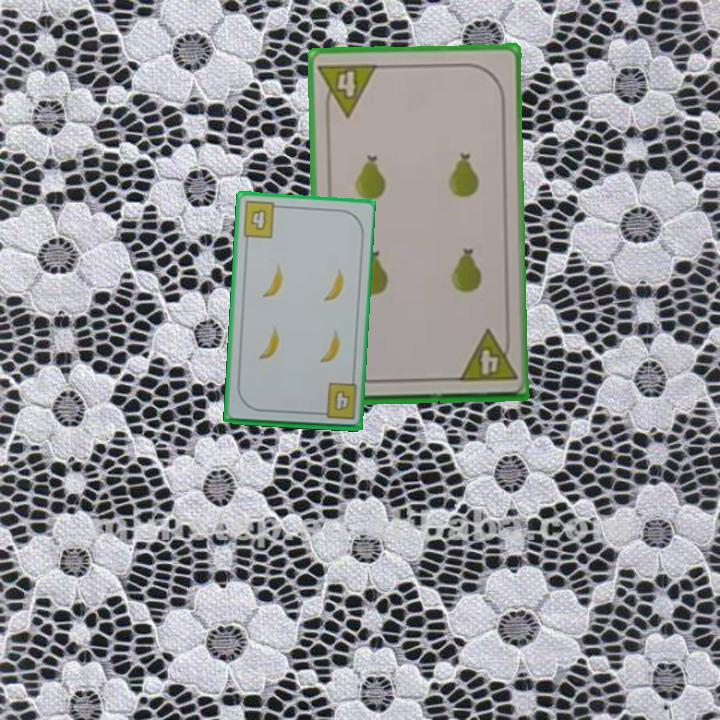4b: (314, 380, 360, 423), (239, 198, 284, 241)
4p: (315, 59, 380, 120), (454, 327, 519, 385)
